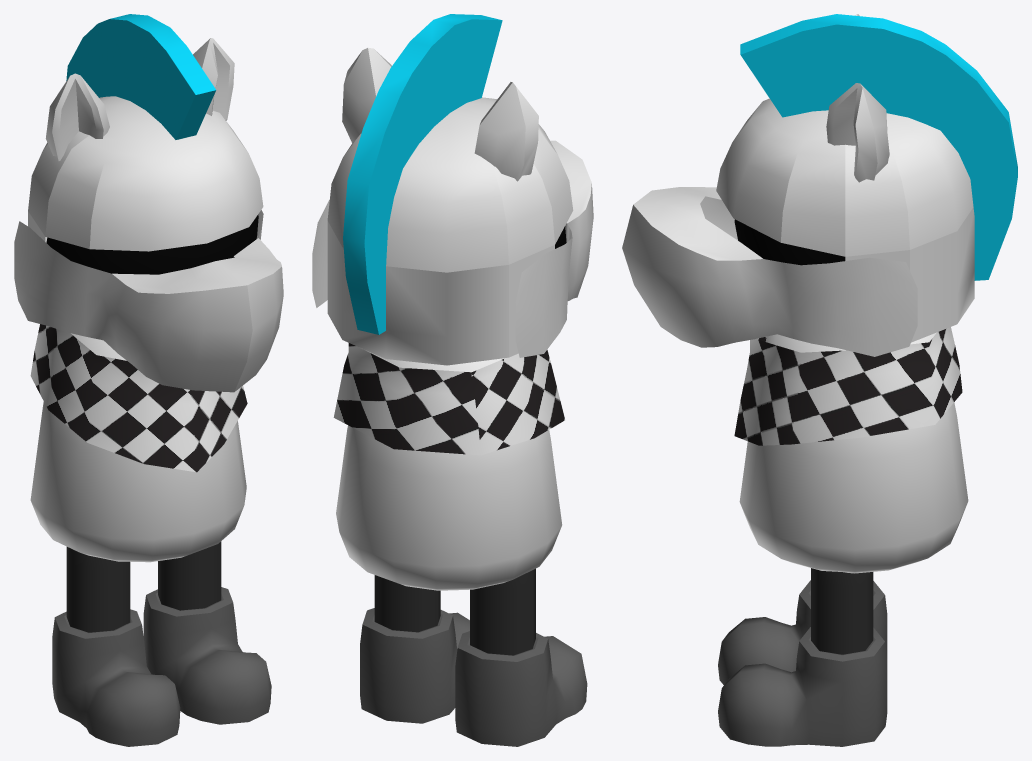
The model's file is Caballo.fbx.
3 renders of one model, left to right at view 1: azimuth 30°, elevation 25°; view 2: azimuth 150°, elevation 25°; view 3: azimuth 270°, elevation 25°, orthographic. The views are drawn at different scales.
Visible parts, largest first — view 1: Caballo; view 2: Caballo; view 3: Caballo.
Part boxes in pixels (x1,y1,x2,y2): Caballo: [14, 14, 283, 746]; Caballo: [312, 14, 593, 746]; Caballo: [622, 14, 1017, 746].
Size of the model in its own units: 1.01 by 3.06 by 1.58.
Materials: 6 (1 with a texture image).
